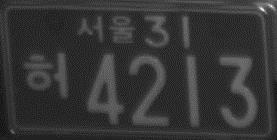1: (184, 54, 203, 129), (181, 12, 192, 50)
2: (127, 53, 171, 127)
3: (215, 52, 259, 129), (141, 13, 170, 47)
4: (84, 53, 124, 127)
서울_O: (76, 12, 136, 46)
허: (21, 52, 72, 101)
